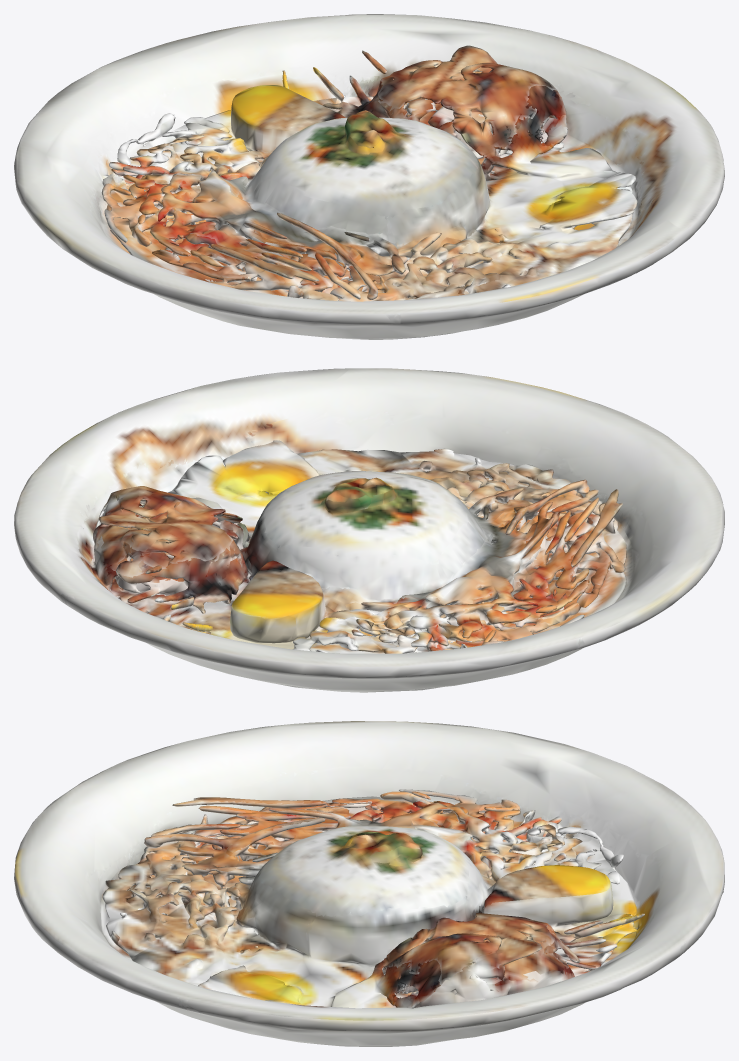
Rendered from com_tam.glb.
The picture shows the model from 3 angles, top to bottom: view 1: azimuth 30°, elevation 25°; view 2: azimuth 150°, elevation 25°; view 3: azimuth 270°, elevation 25°; orthographic projection.
Bounding box in the file's own units: 2 × 0.3683 × 2.
1 material, 1 textured.
